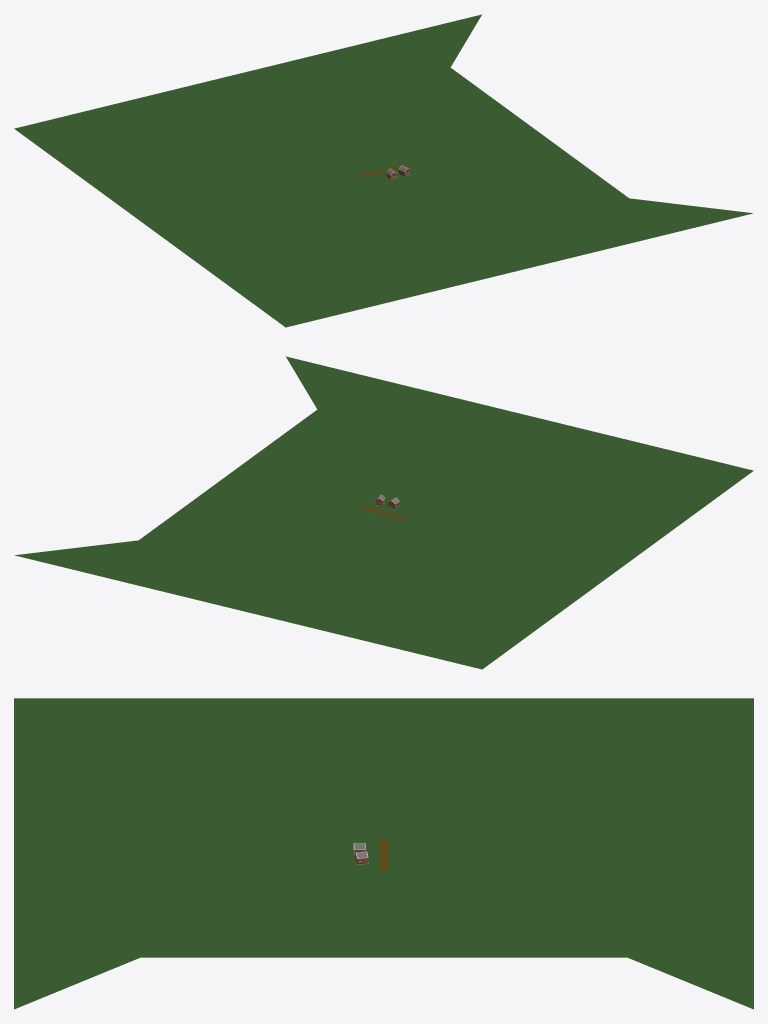
The model's file is map.fbx.
3 renders of one model, top to bottom at view 1: azimuth 30°, elevation 25°; view 2: azimuth 150°, elevation 25°; view 3: azimuth 270°, elevation 25°, orthographic. The views are drawn at different scales.
Visible parts, largest first — view 1: pPlane3; view 2: pPlane3; view 3: pPlane3.
Boxes of the visible parts, bbox=[...] form: pPlane3: bbox=[14, 14, 752, 327]; pPlane3: bbox=[15, 356, 753, 669]; pPlane3: bbox=[14, 698, 753, 1009].
Bounding box in the file's own units: 29415 × 498 × 29562.
